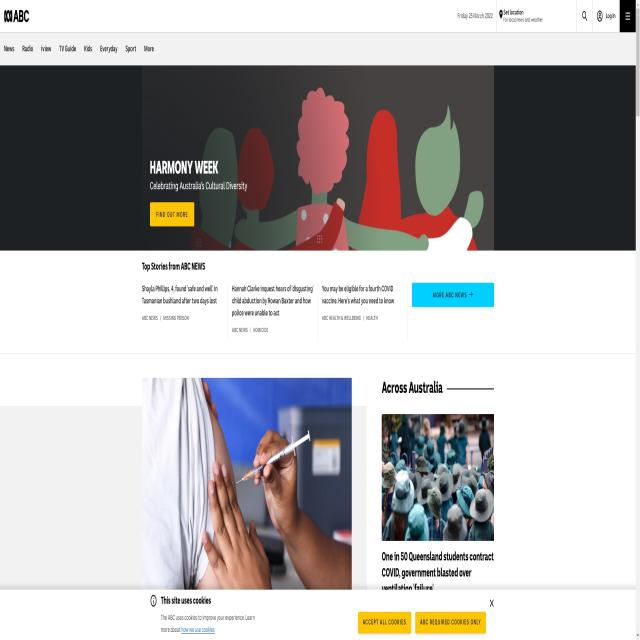search: (578, 4, 591, 32)
